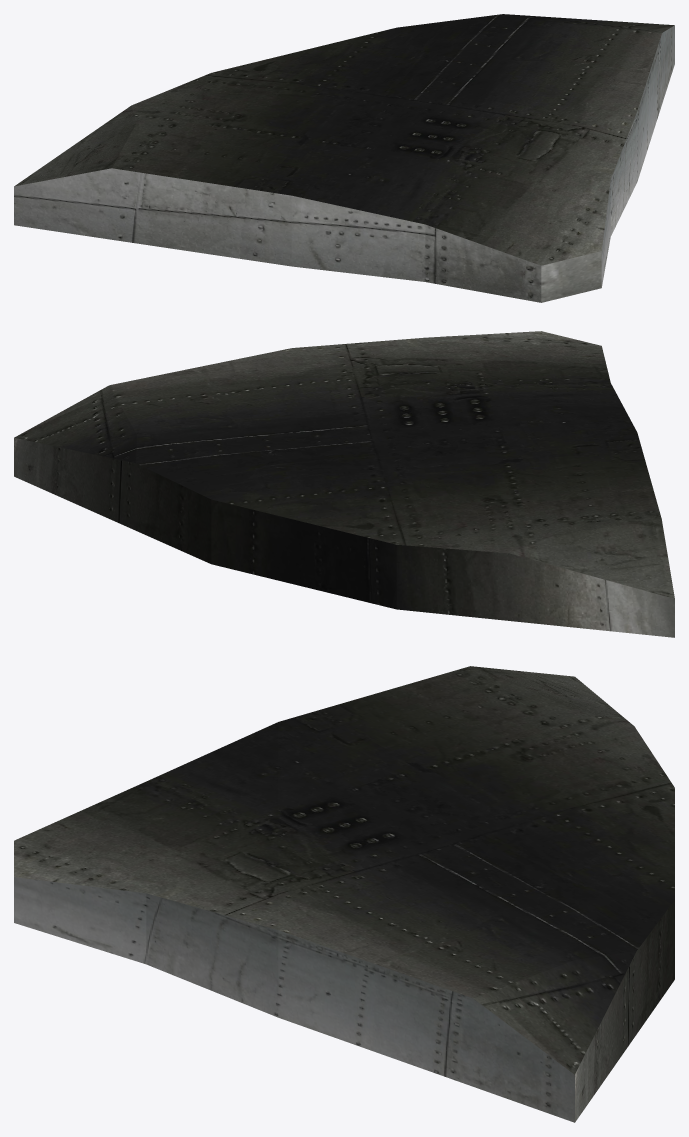
The model's file is jet.glb.
3 renders of one model, top to bottom at view 1: azimuth 30°, elevation 25°; view 2: azimuth 150°, elevation 25°; view 3: azimuth 270°, elevation 25°, orthographic. The views are drawn at different scales.
Visible parts, largest first — view 1: Cube; view 2: Cube; view 3: Cube.
Part boxes in pixels (x1,y1,x2,y2): Cube: (14, 14, 674, 302); Cube: (14, 331, 674, 637); Cube: (14, 666, 674, 1122).
Bounding box in the file's own units: 1.06 × 0.1207 × 0.7408.
1 material, 1 textured.
